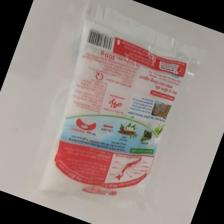Ajinomoto: (24, 21, 190, 216)
